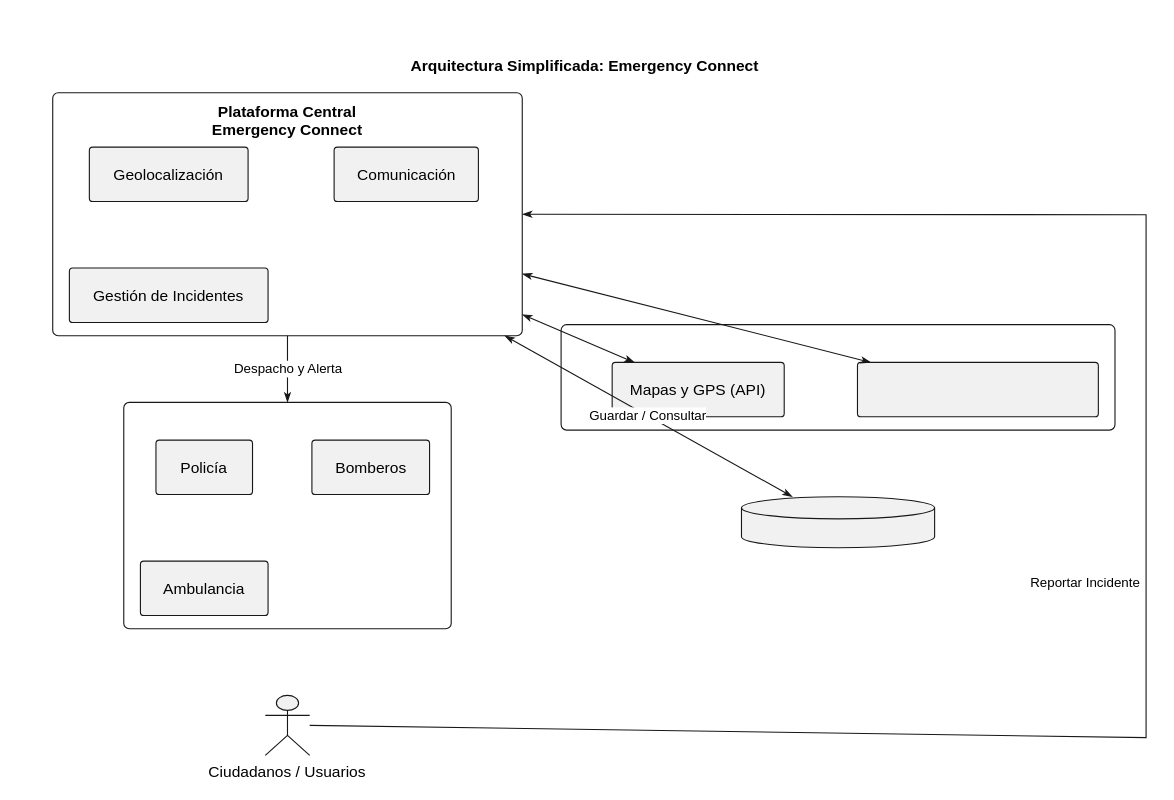
The diagram is 1174 pixels wide and 800 high, and some of its shapes have lost their labels. Here are the shapes that lost their labels. From the top down, the box of each, then its label:
(560, 324, 1115, 430): Servicios Externos
(856, 361, 1098, 417): Servicios de Comunicación
(123, 401, 451, 629): Equipos de Respuesta
(740, 496, 935, 548): Base de Datos (Incidentes y Recursos)
